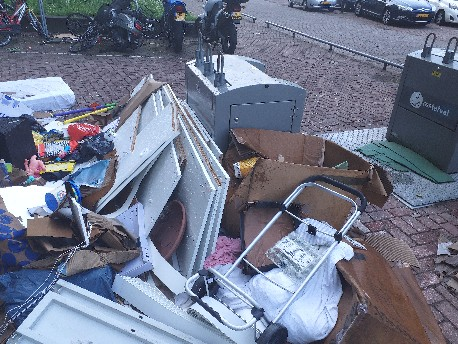Container: (374, 41, 458, 161), (194, 47, 295, 131)
Papier: (236, 136, 376, 225), (23, 220, 107, 265), (1, 222, 15, 260)
Rest: (186, 151, 368, 344), (114, 84, 215, 230), (297, 239, 430, 337), (6, 281, 202, 344), (46, 170, 137, 214), (6, 71, 74, 120), (1, 123, 40, 177), (4, 183, 62, 218), (49, 127, 96, 168), (95, 120, 131, 165)
